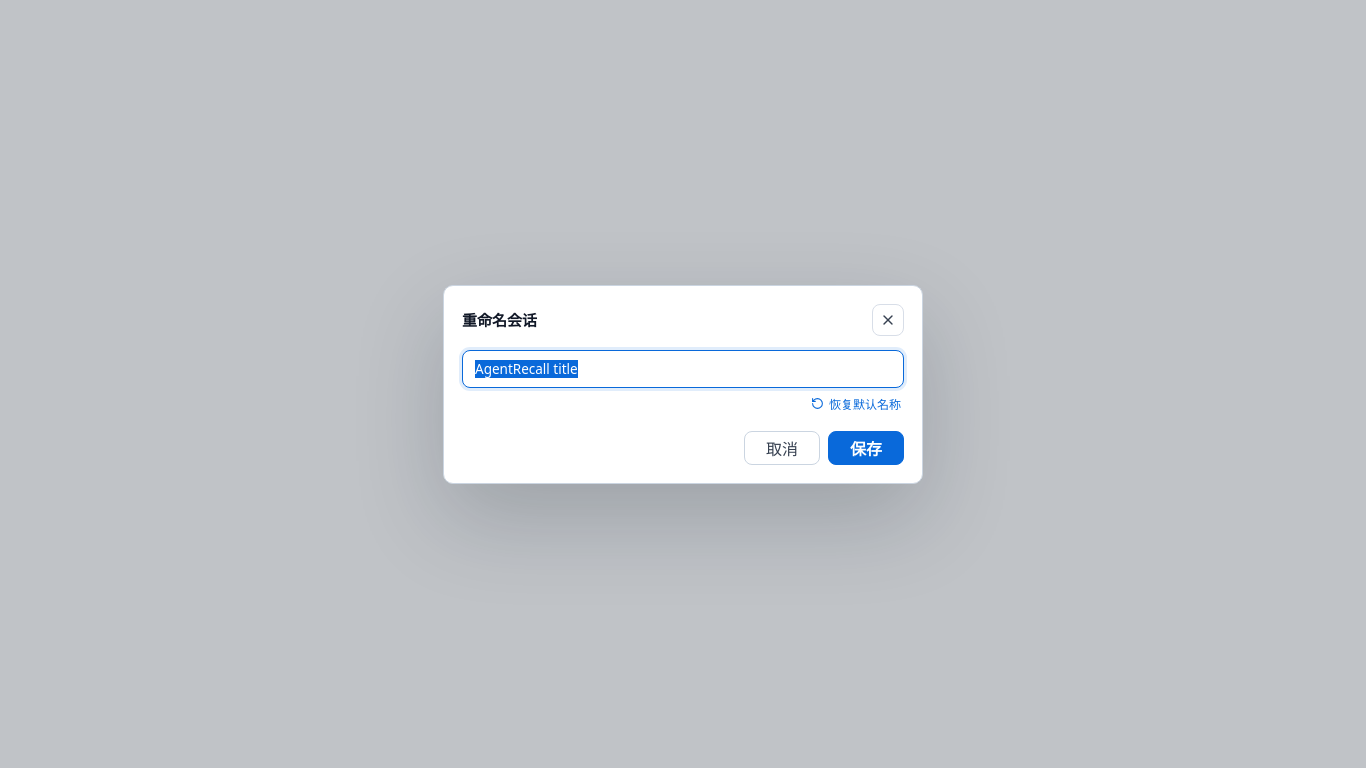
session dialogs › offers restoring the source title only for renamed Cursor sessions
Click the button with class "rename-default-button" at (856, 404), box x1=808 y1=392 x2=904 y2=414
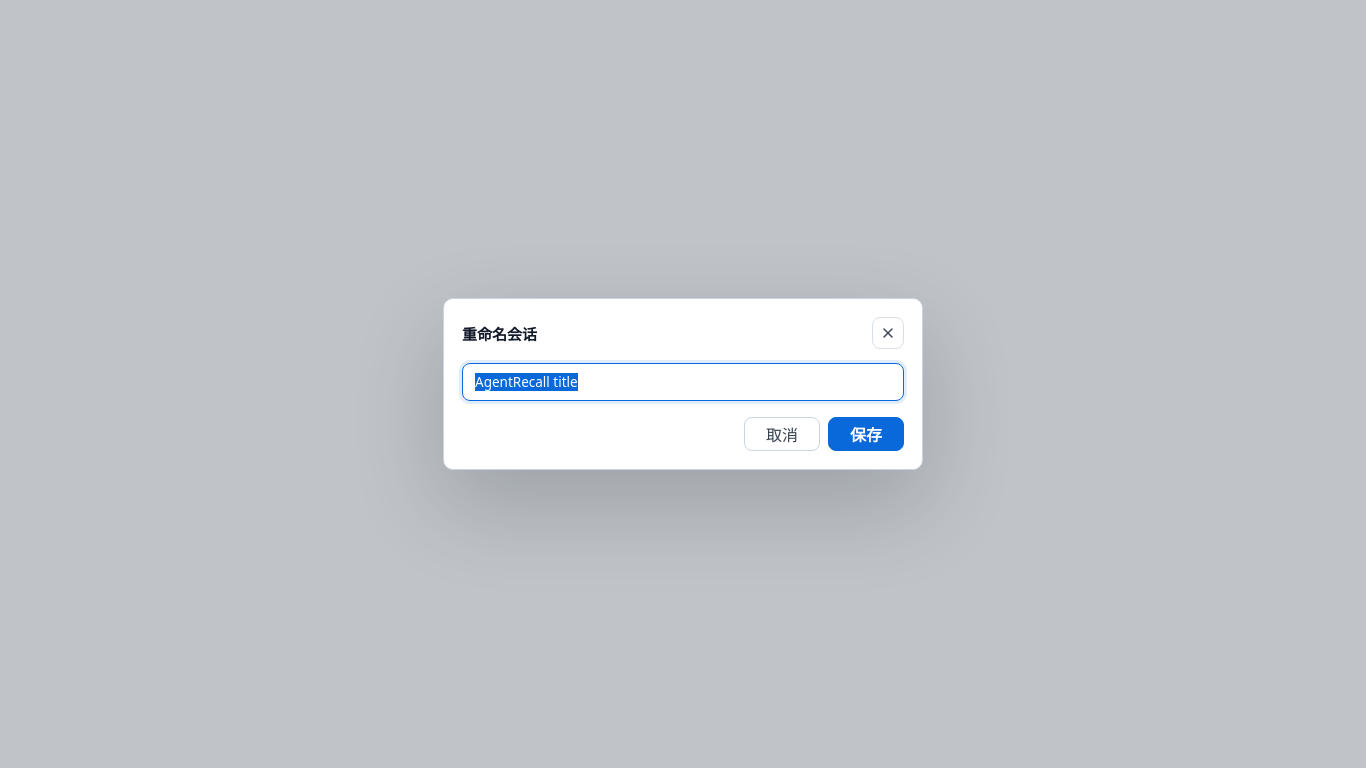
Result: the button with class "rename-default-button" is gone
